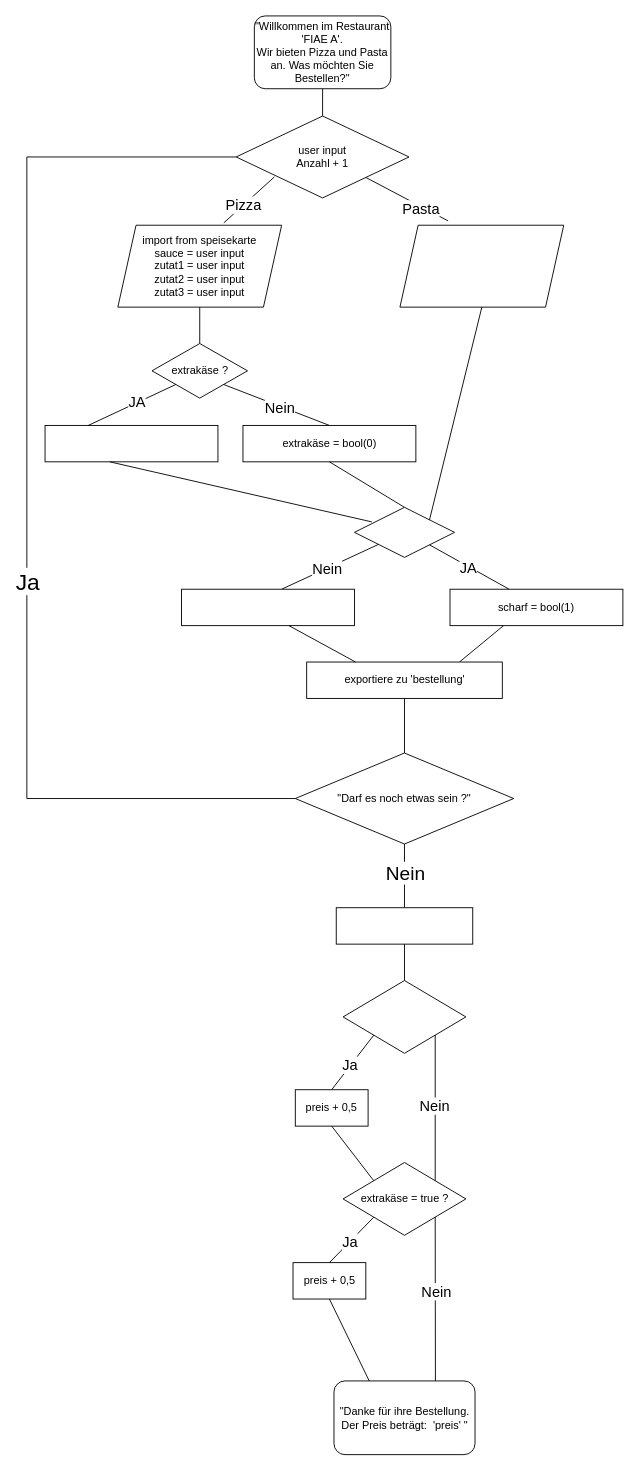
Image size: 639x1471. Some labels were removed from this diagram. The shapes that lost their labels are listed below. From the top down, each one's centre as x and y in pixels, then its label:
At (481,265): "import from speisekarte nudelsorte = user input sauce = user input".
At (131,443): "extrakäse = bool(1)".
At (404,531): "scharf ?".
At (267,607): "scharf = bool(0)".
At (404,925): "import from 'bestellung'".
At (404,1016): "scharf = true ?".
